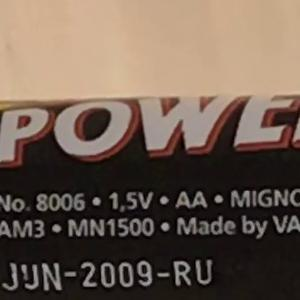keyword: (101, 183, 162, 218)
